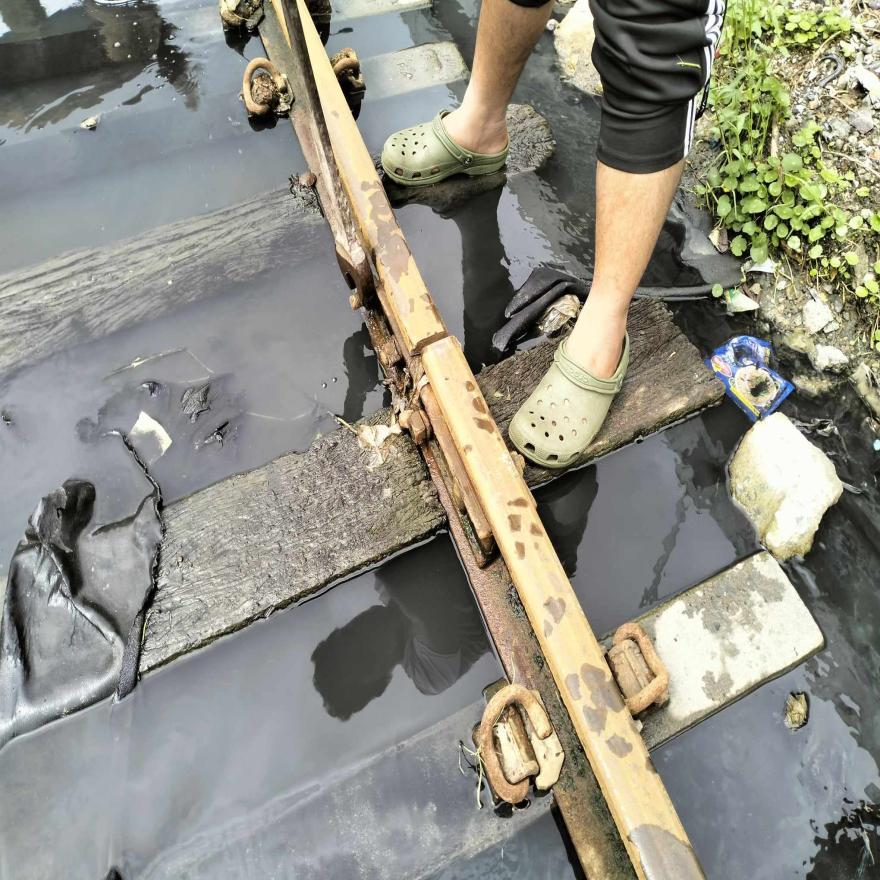railway-gap: (392, 284, 472, 399)
